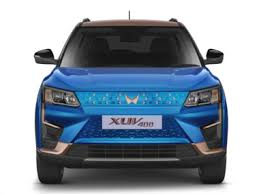XUV 400: (32, 11, 231, 186)
